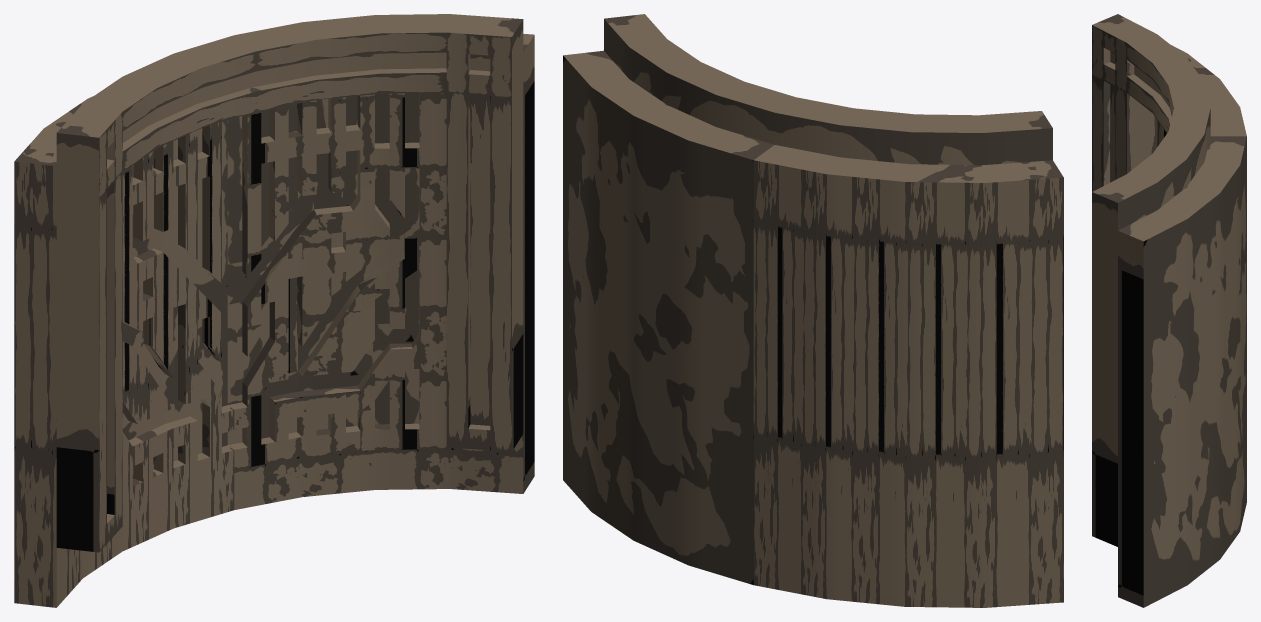
Rendered from convex_door.fbx.
The picture shows the model from 3 angles, left to right: view 1: azimuth 30°, elevation 25°; view 2: azimuth 150°, elevation 25°; view 3: azimuth 270°, elevation 25°; orthographic projection. The views are drawn at different scales.
Parts seen in each view (by area): view 1: down_door.004, down_door_frame, down_door.005; view 2: down_door.005, down_door.004, down_door_frame; view 3: down_door.004, down_door_frame, down_door.005.
Boxes of the visible parts, x1,y1,x2,y2 form: down_door.004: (227, 34, 534, 509); down_door_frame: (56, 14, 523, 552); down_door.005: (14, 96, 234, 607); down_door.005: (753, 145, 1063, 607); down_door.004: (563, 50, 774, 584); down_door_frame: (604, 14, 1052, 165); down_door.004: (1118, 136, 1246, 607); down_door_frame: (1092, 14, 1210, 546); down_door.005: (1157, 45, 1246, 146).
Size of the model in its own units: 570 by 497 by 177.
